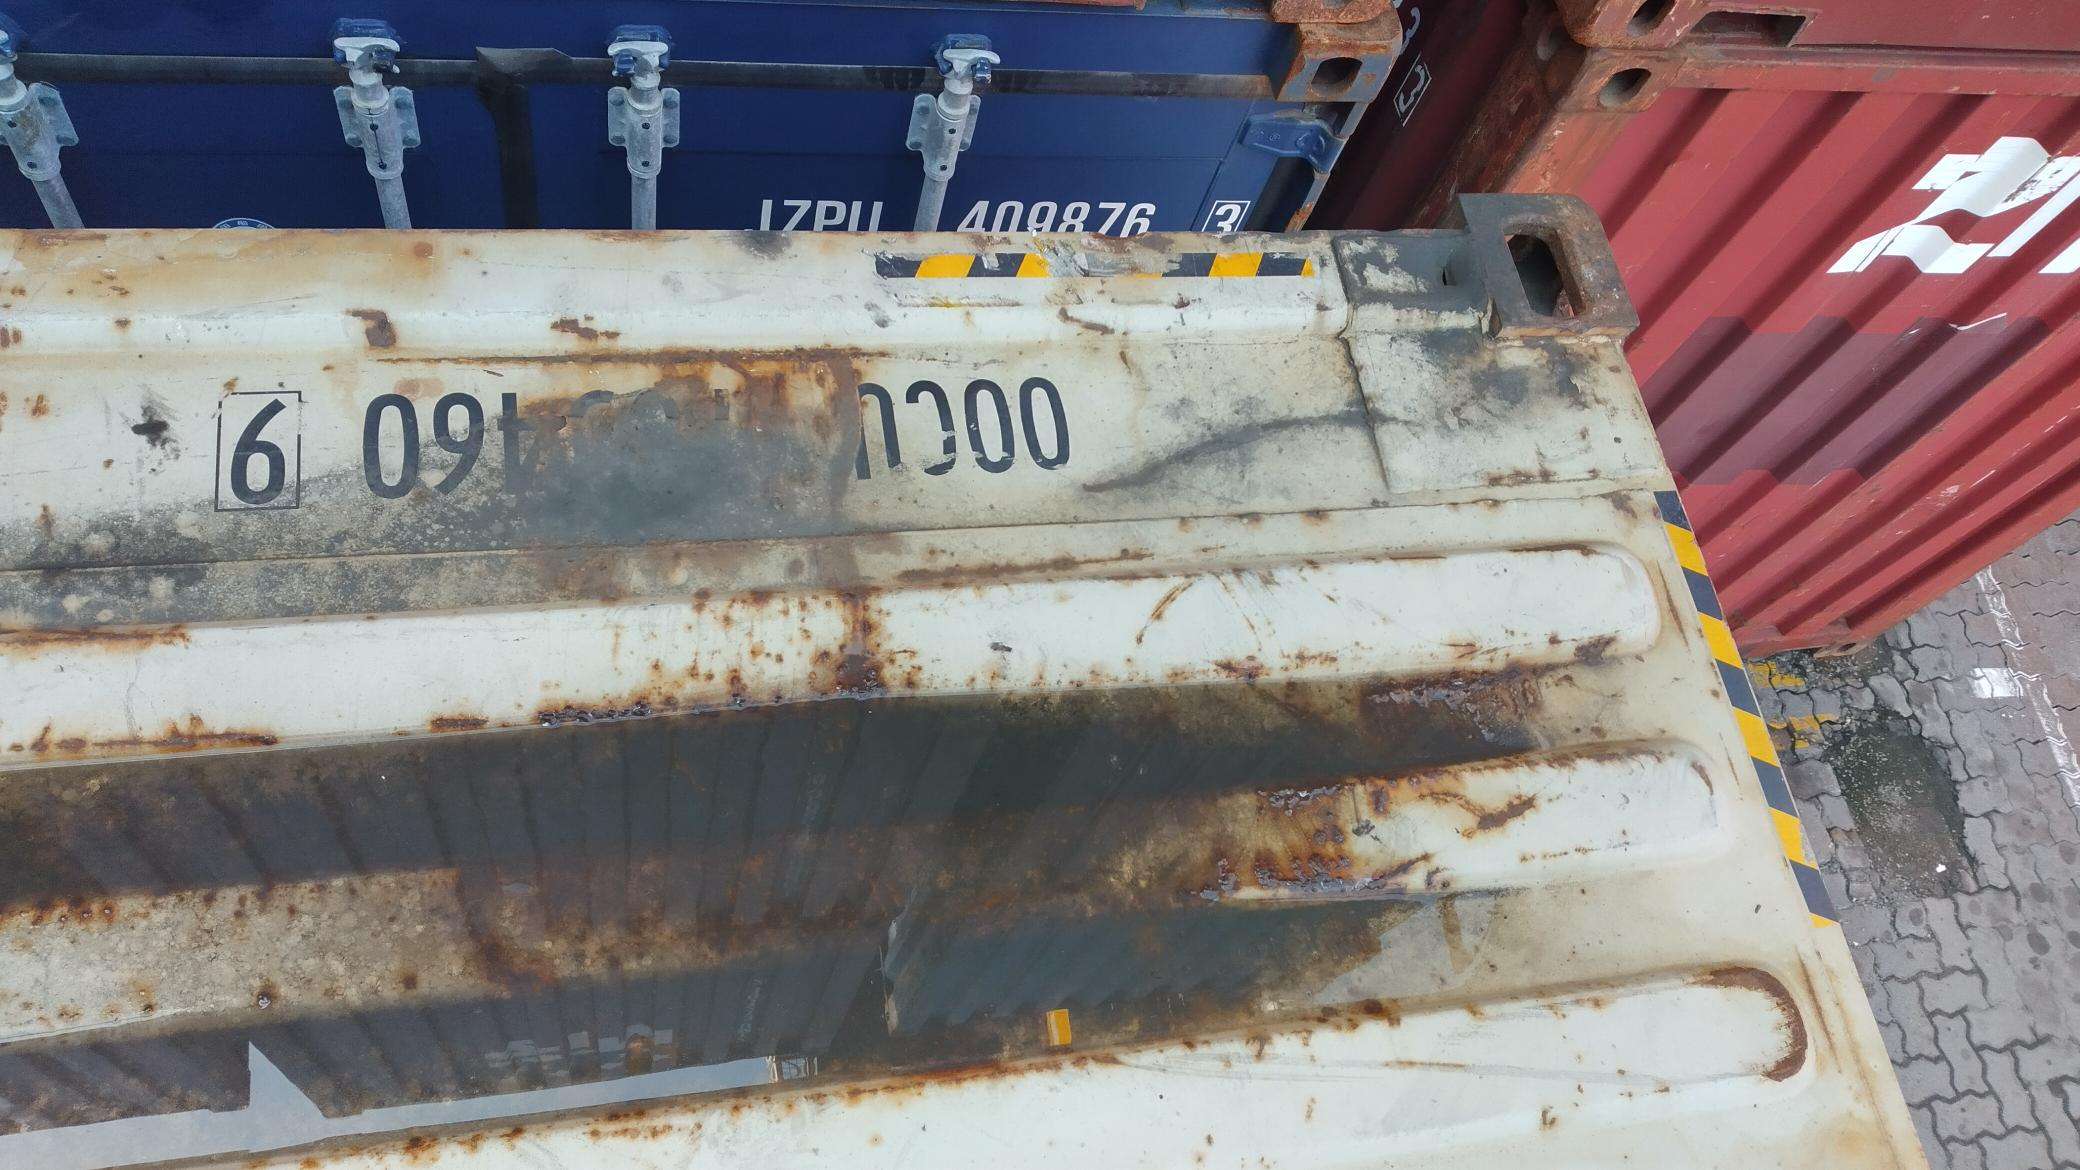rust: (34, 637, 1614, 919), (47, 954, 1456, 1134)
